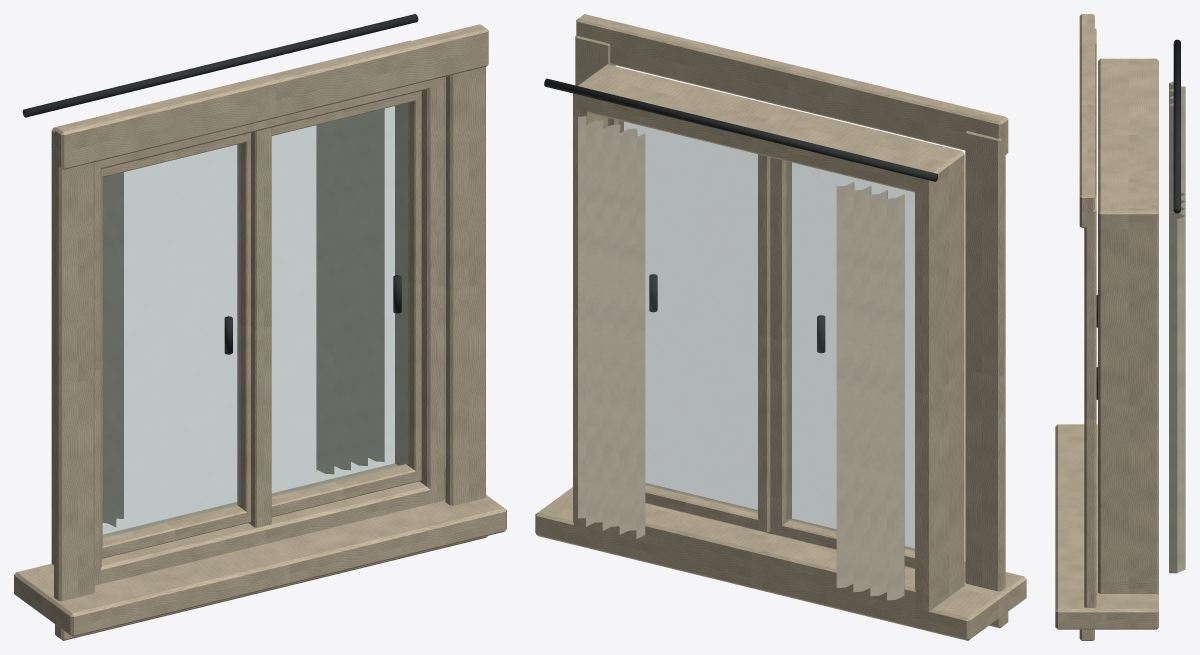
File: window_120x140.glb
The picture shows the model from 3 angles, left to right: view 1: azimuth 30°, elevation 25°; view 2: azimuth 150°, elevation 25°; view 3: azimuth 270°, elevation 25°; orthographic projection. The views are drawn at different scales.
Visible parts, largest first — view 1: Window_frame_glazing, Curtains, Curtain_rod; view 2: Window_frame_glazing, Curtains, Curtain_rod; view 3: Window_frame_glazing, Curtains, Curtain_rod.
Part boxes in pixels (x1=…): Window_frame_glazing: x1=14, y1=24, x2=506, y2=640; Curtains: x1=102, y1=109, x2=384, y2=526; Curtain_rod: x1=22, y1=14, x2=418, y2=117; Window_frame_glazing: x1=535, y1=14, x2=1026, y2=640; Curtains: x1=578, y1=116, x2=904, y2=600; Curtain_rod: x1=544, y1=78, x2=938, y2=181; Window_frame_glazing: x1=1055, y1=14, x2=1158, y2=640; Curtains: x1=1169, y1=81, x2=1185, y2=573; Curtain_rod: x1=1173, y1=39, x2=1180, y2=213.
Size of the model in its own units: 1.45 by 1.61 by 0.427.
4 materials, 4 textured.
